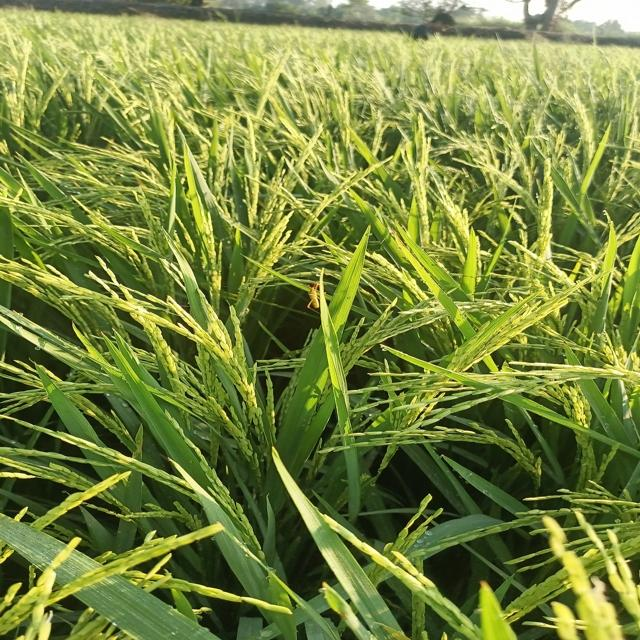green leaf hopper: (303, 277, 323, 312)
